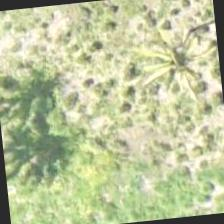Kelapa_Sawit: (128, 10, 222, 109)
